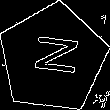N_W: (26, 35, 80, 82)
